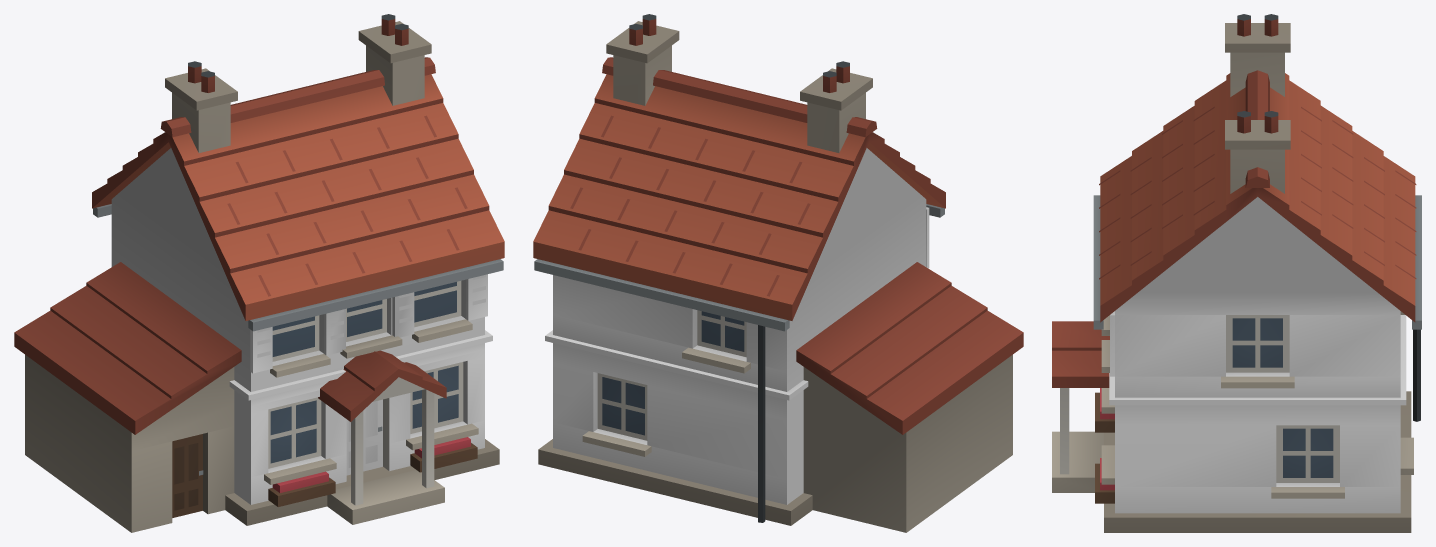
File: farmhouse.glb
The picture shows the model from 3 angles, left to right: view 1: azimuth 30°, elevation 25°; view 2: azimuth 150°, elevation 25°; view 3: azimuth 270°, elevation 25°; orthographic projection. The views are drawn at different scales.
Parts seen in each view (by area): view 1: Farmhouse; view 2: Farmhouse; view 3: Farmhouse.
Boxes of the visible parts, box(x1,y1,x2,y2) form: Farmhouse: box(14, 14, 504, 532); Farmhouse: box(533, 14, 1023, 532); Farmhouse: box(1052, 14, 1421, 532).
Size of the model in its own units: 1 by 1.06 by 0.881.
